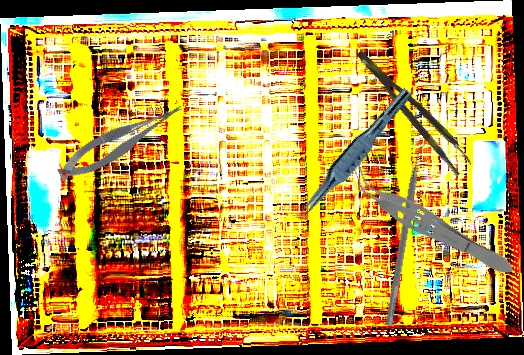Micro Scissor: (51, 99, 191, 186)
Spatula Surgical: (384, 140, 431, 328)
Tissue Forceps: (340, 162, 522, 285), (292, 81, 414, 228), (354, 41, 475, 177)
